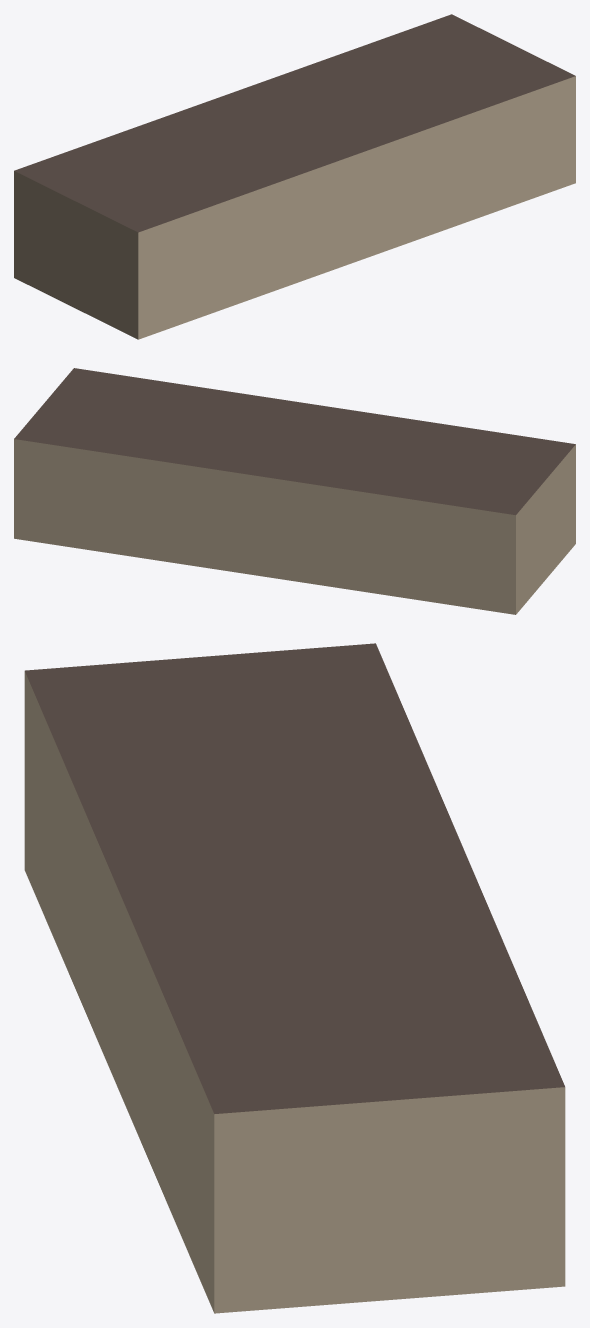
3 views of the same model, one above another, from view 1: azimuth 30°, elevation 25°; view 2: azimuth 150°, elevation 25°; view 3: azimuth 270°, elevation 25° (orthographic). The views are drawn at different scales.
Parts seen in each view (by area): view 1: HP-w859078971; view 2: HP-w859078971; view 3: HP-w859078971.
Part boxes in pixels (bbox=[...]): HP-w859078971: bbox=[14, 14, 575, 339]; HP-w859078971: bbox=[14, 368, 575, 614]; HP-w859078971: bbox=[24, 643, 565, 1313].
Size of the model in its own units: 45.57 by 9 by 22.12.
